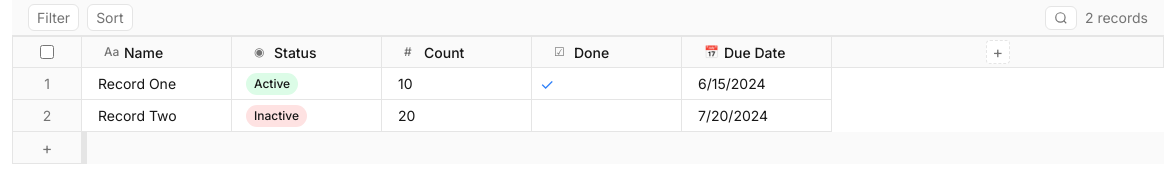
Test: Grid component › cell editing › should enter edit mode on double click
Double-click the text "Record One" at [137, 84], box 98,75 -> 176,92
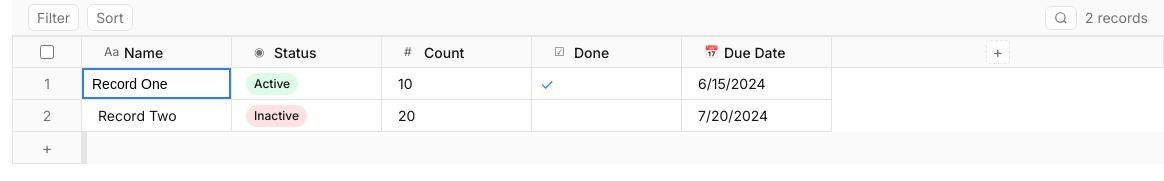
Expected: the field is shown, 82,68 -> 231,99
